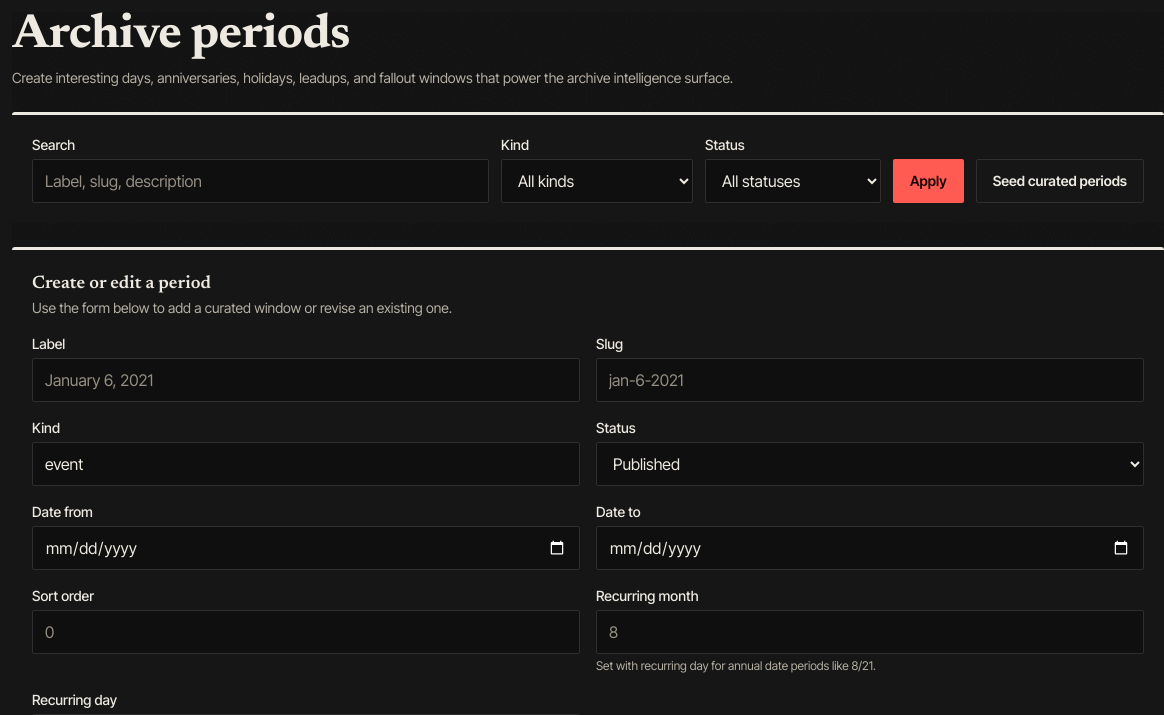
Test case: AdminArchivePeriods › seeds curated periods
Click the button "Seed curated periods" at (1060, 181), box [976, 159, 1144, 203]
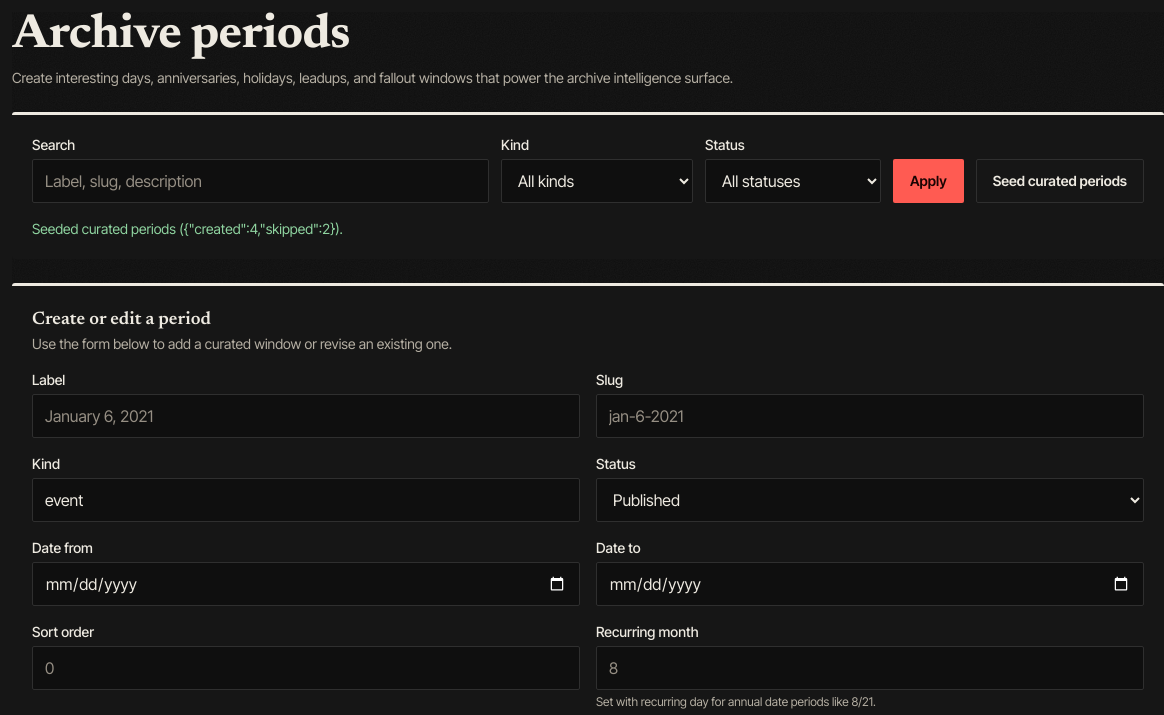
Result: the text "Seeded curated periods ({\"created\":4,\"skipped\":2})." is shown at [32, 220, 343, 237]
